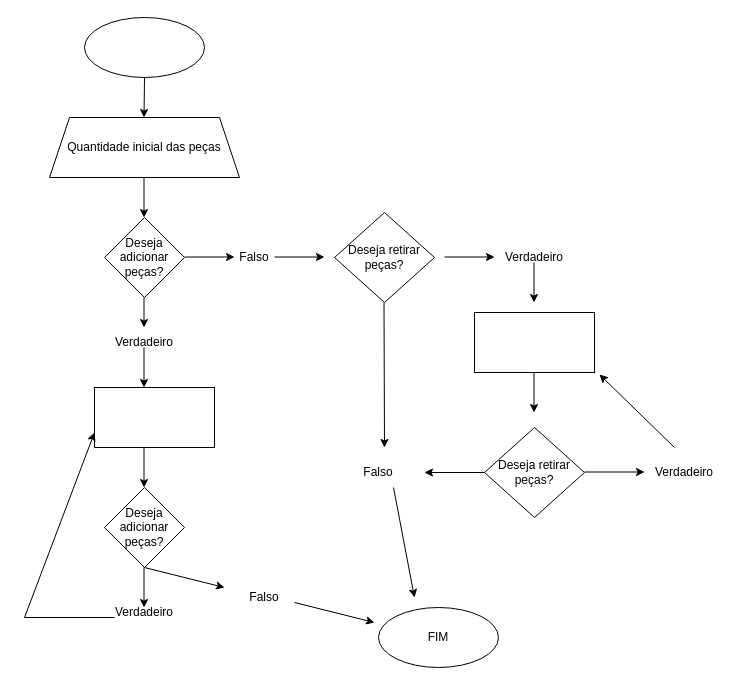
The diagram is 732 pixels wide and 685 high, and some of its shapes have lost their labels. Each missing label, with the centre of its shape:
"INÍCIO" goes at pixel 144 47.
"SOMAR a quantidade adicionada à quantidade inicial" goes at pixel 154 417.
"SUBTRAIR a quantidade retirada à quantidade inicial" goes at pixel 534 342.
